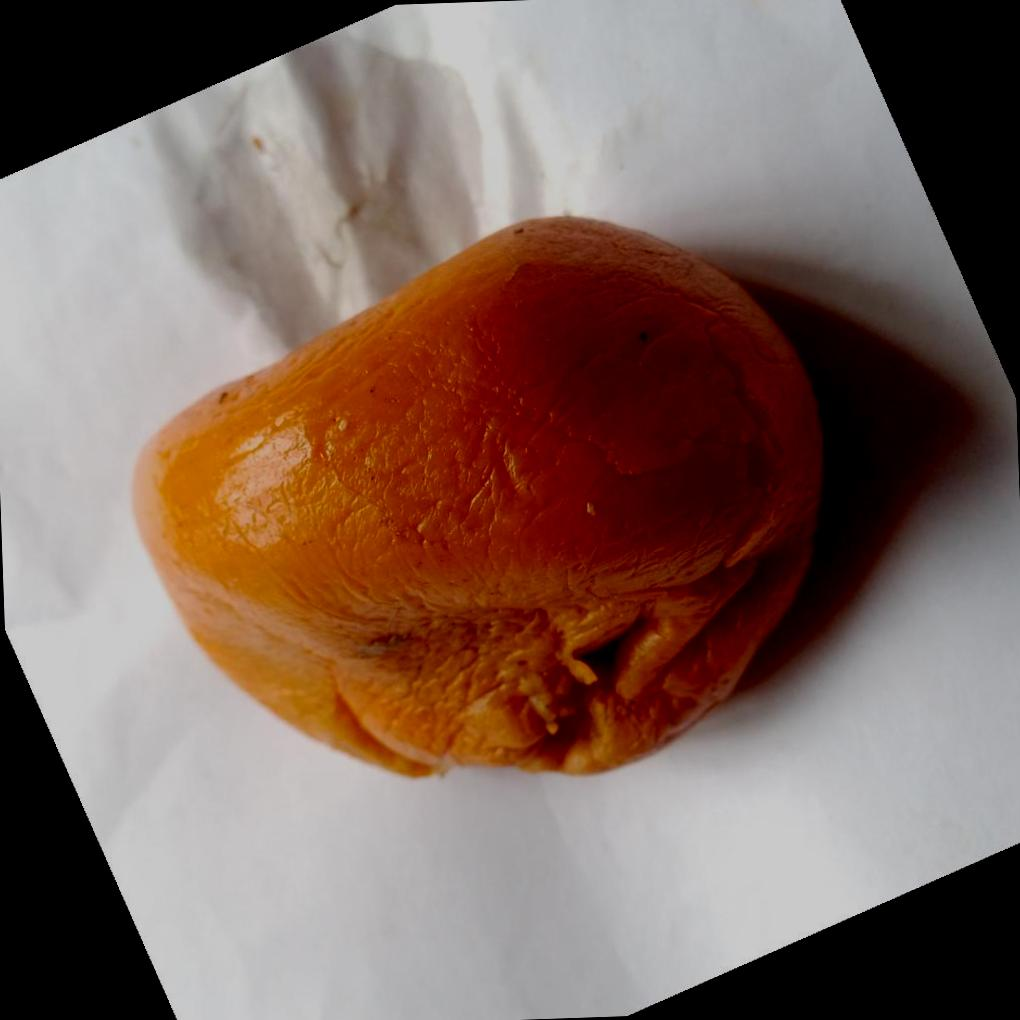FreshOrange: (128, 209, 827, 776)
